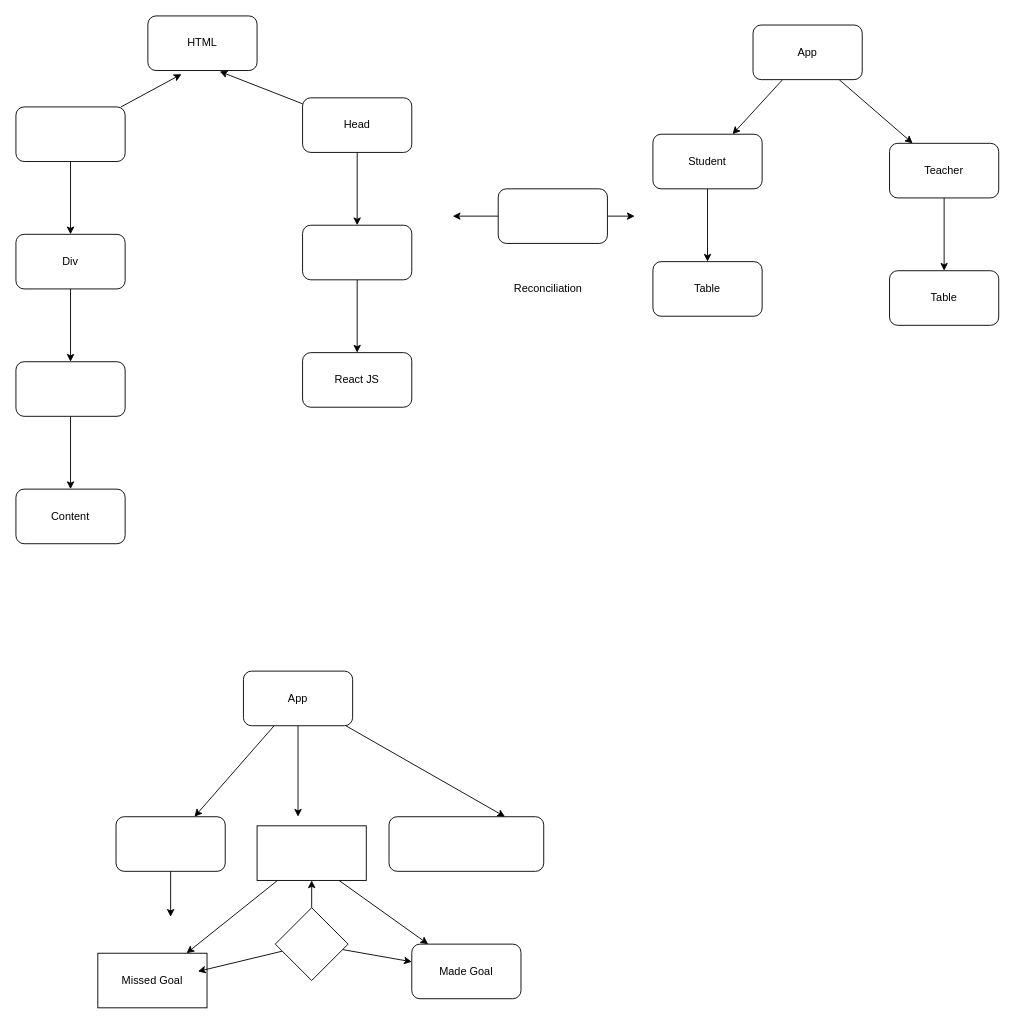
This 1015x1024 diagram has some shape labels left out. Here are the shapes that lost their labels. From the top down, the centre of each, then its label:
At (70,134): "Body".
At (552,215): "Reacth DOM".
At (357,252): "title".
At (70,388): "H1".
At (170,843): "MyClassComponent".
At (311,852): "Goal".
At (466,843): "MyFunctionalComponent".
